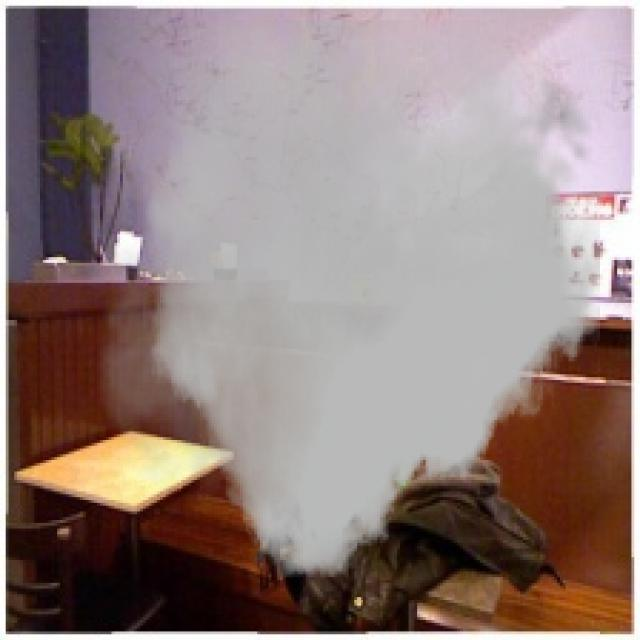Smoke: (86, 20, 608, 577)
